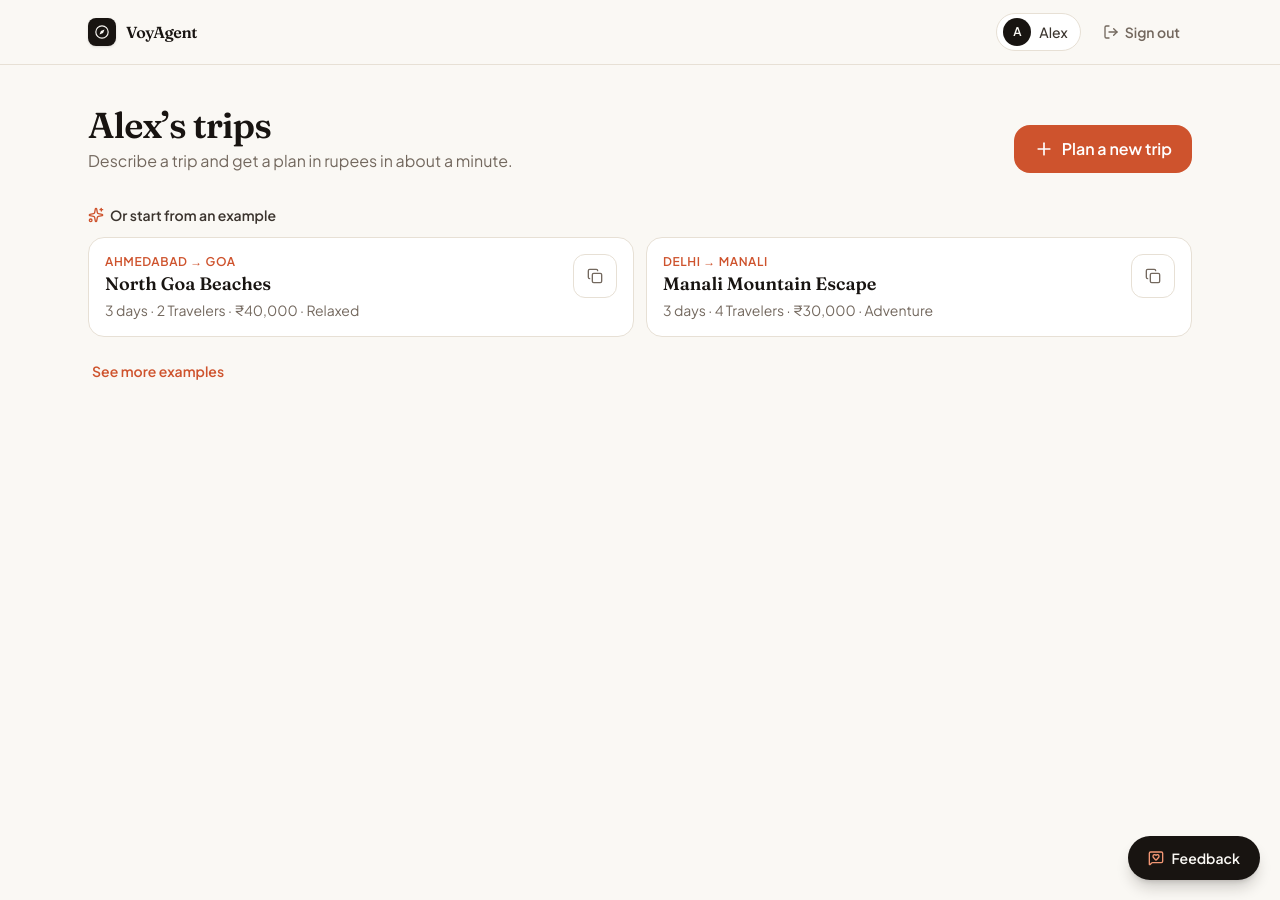
Test: Dashboard › offers one way to start planning and two examples until asked for more
Expected: the button "Plan a new trip" is shown, [1014, 125, 1192, 173]
Expected: the button "Manali Mountain Escape" is shown, [663, 270, 876, 298]
Click the button "See more examples". click: (158,371)
box: [88, 349, 228, 393]
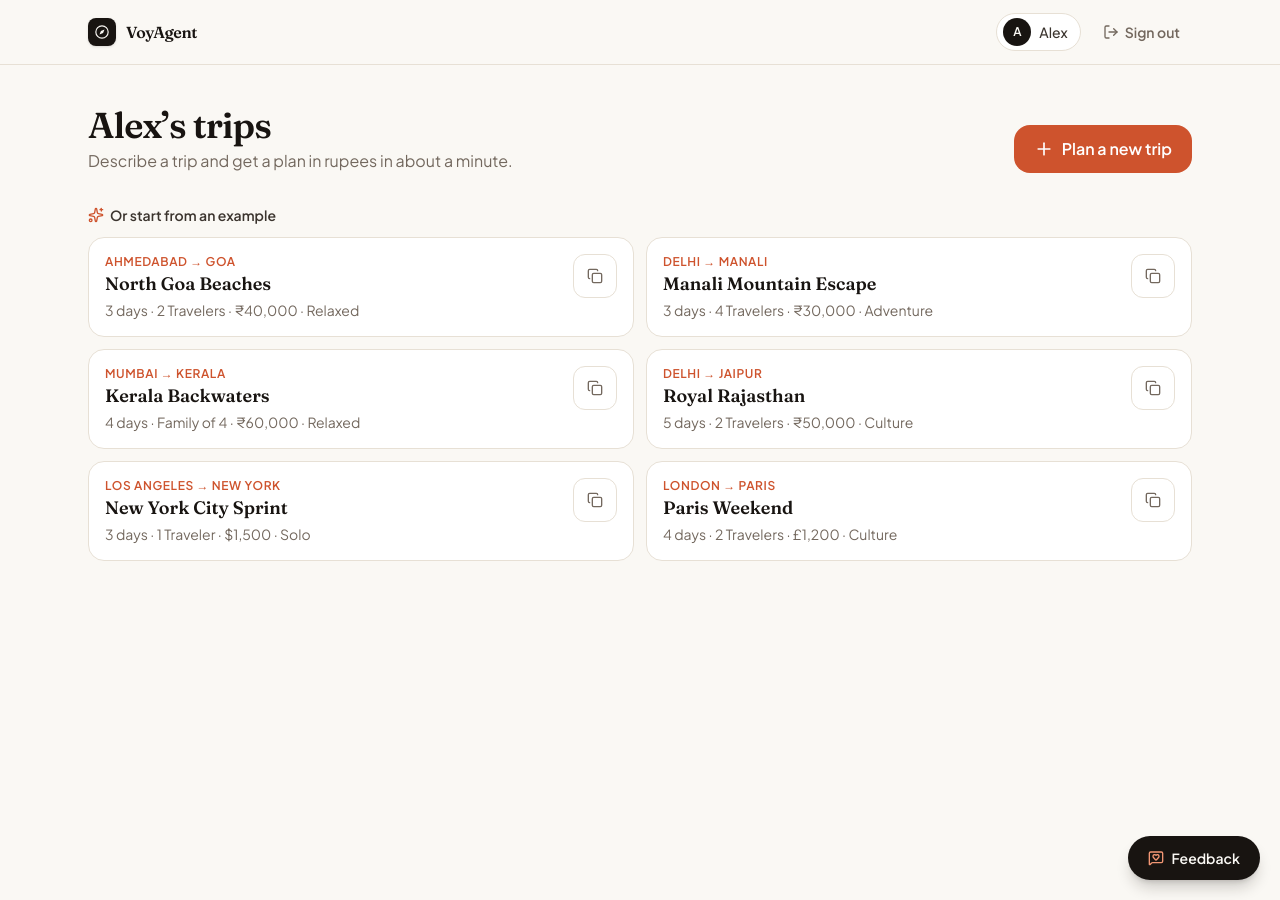
Expected: the button "Kerala Backwaters" is shown, [105, 382, 270, 410]
Expected: the button "Royal Rajasthan" is shown, [663, 382, 805, 410]
Expected: the button "New York City Sprint" is shown, [105, 494, 288, 522]
